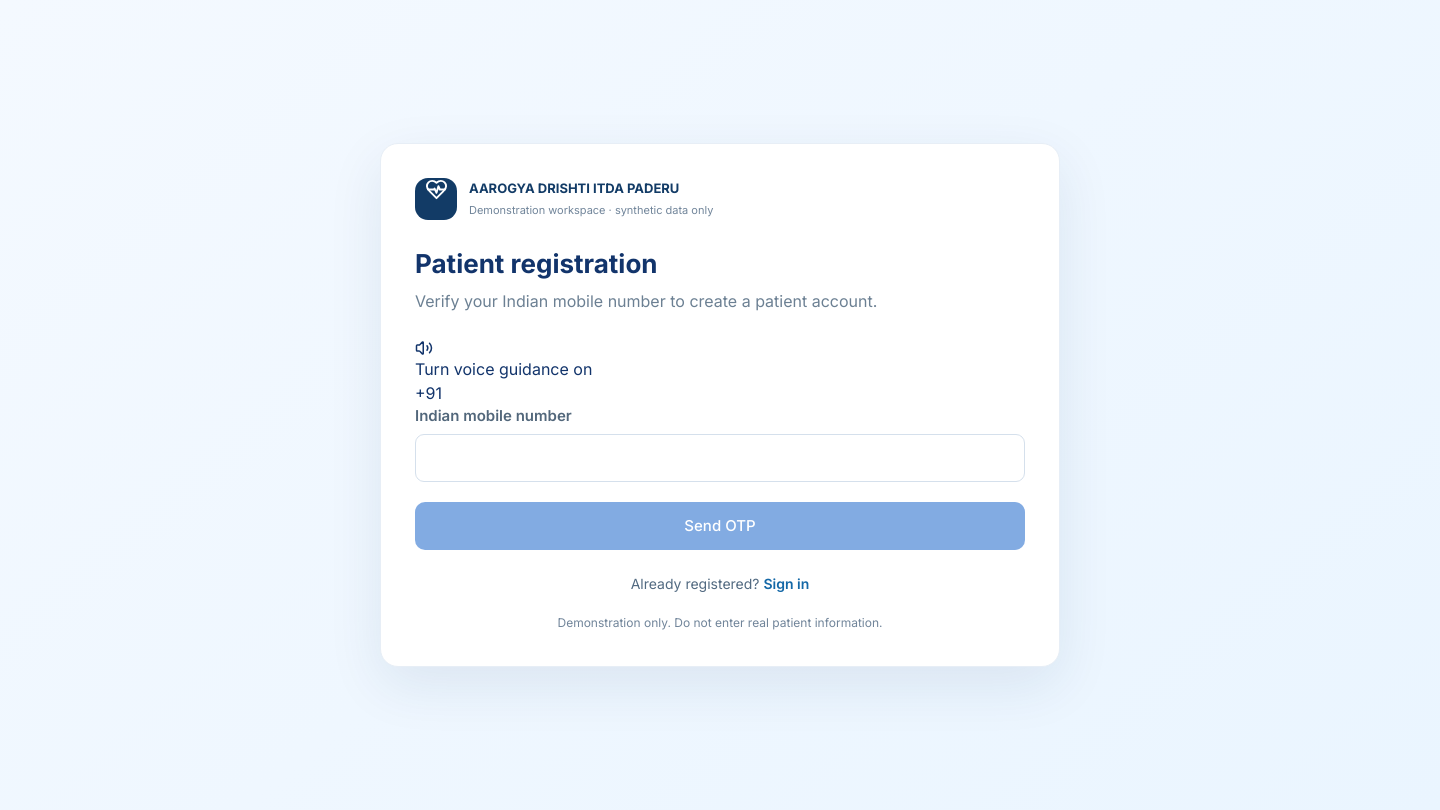
patient OTP registration › shows the required invalid-OTP message for an incorrect code
Later steps or results of the test are not shown.
In the field labelled "Indian mobile number": (720, 458) left=415, top=434, right=1025, bottom=482, type "9876543210"
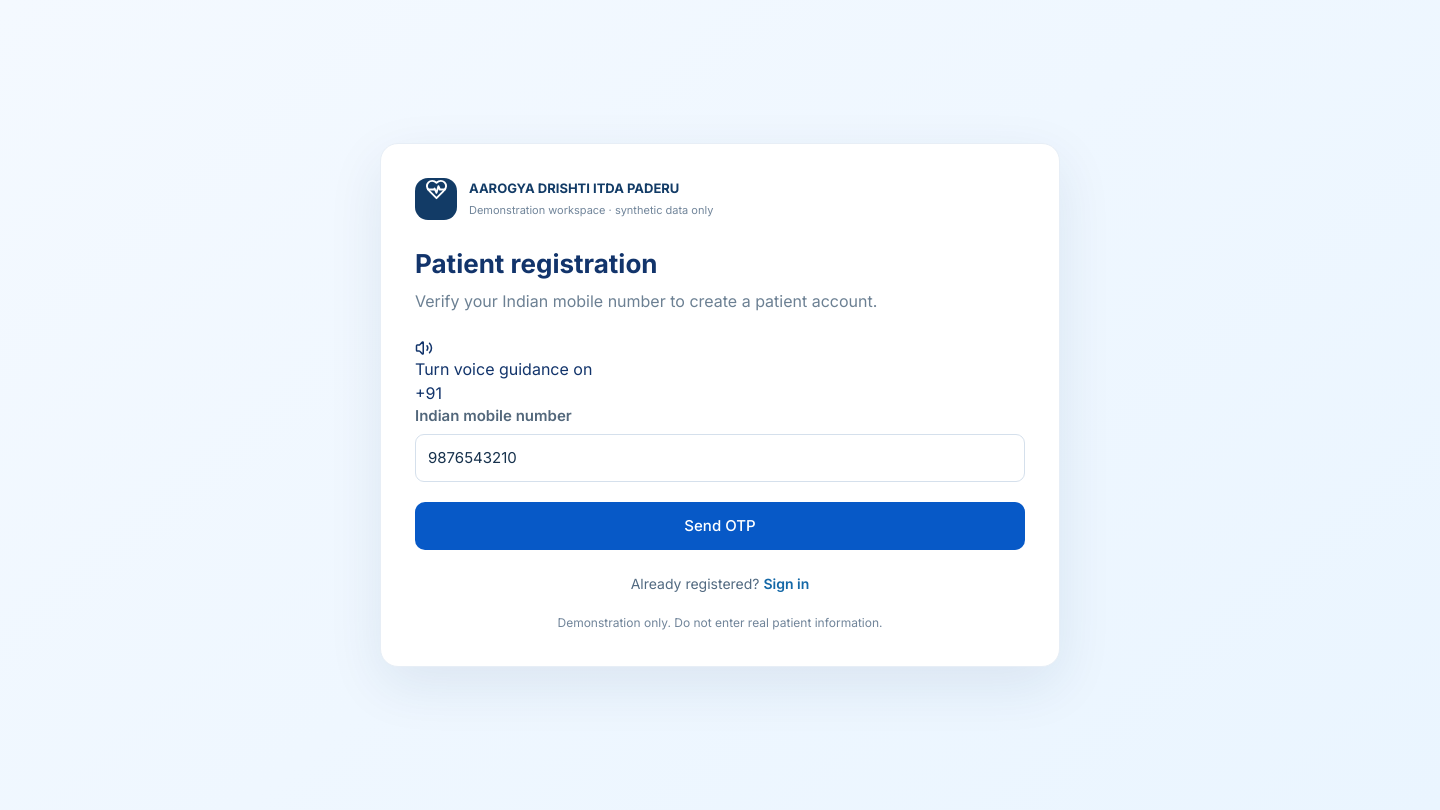
Click the button "Send OTP": (720, 526) left=415, top=502, right=1025, bottom=550
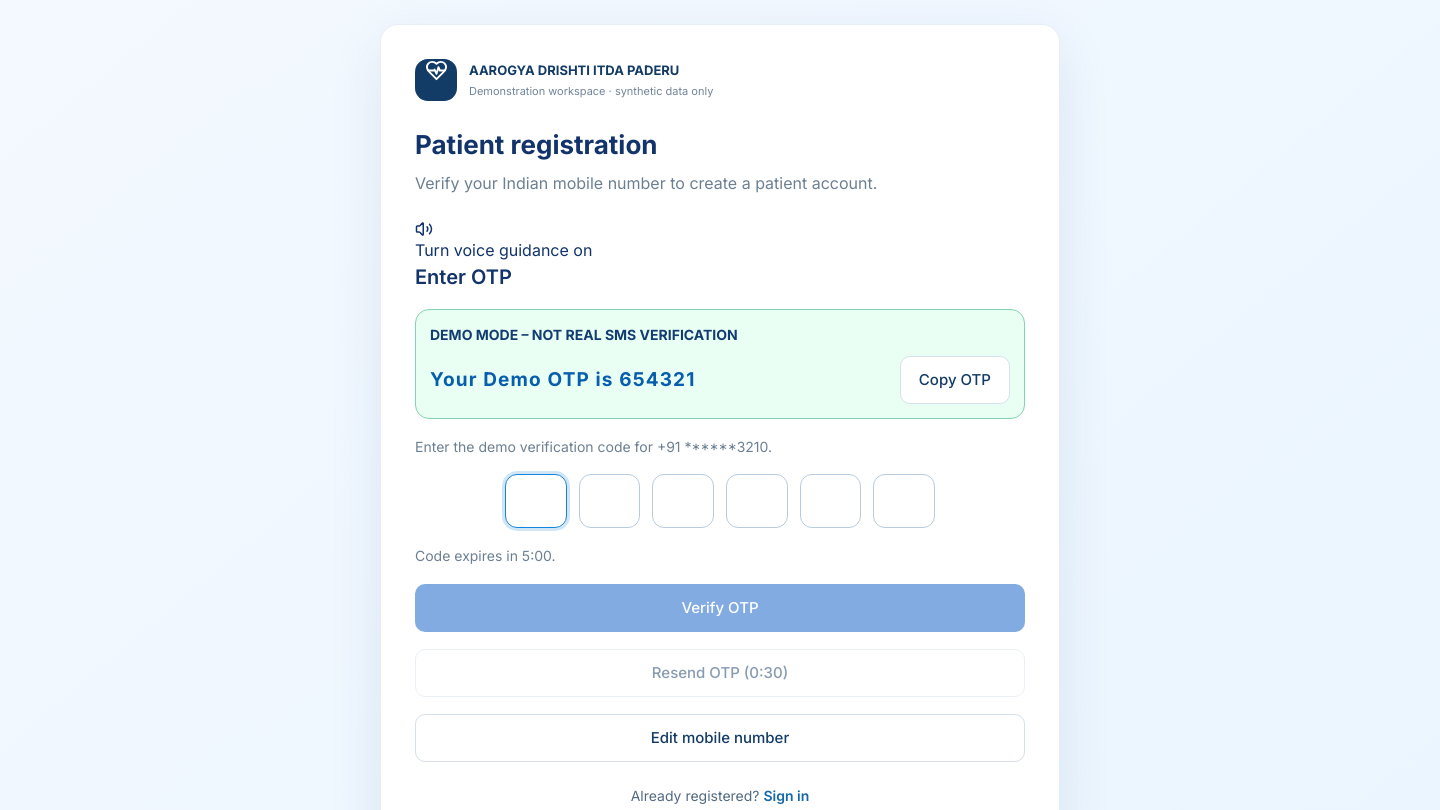
Check: the field named "Verification code digit 1" is shown, box left=505, top=474, right=567, bottom=528
